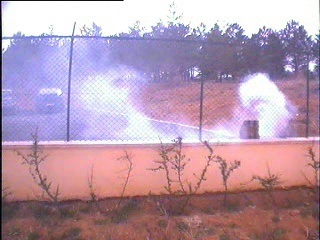smoke: (222, 74, 298, 138)
